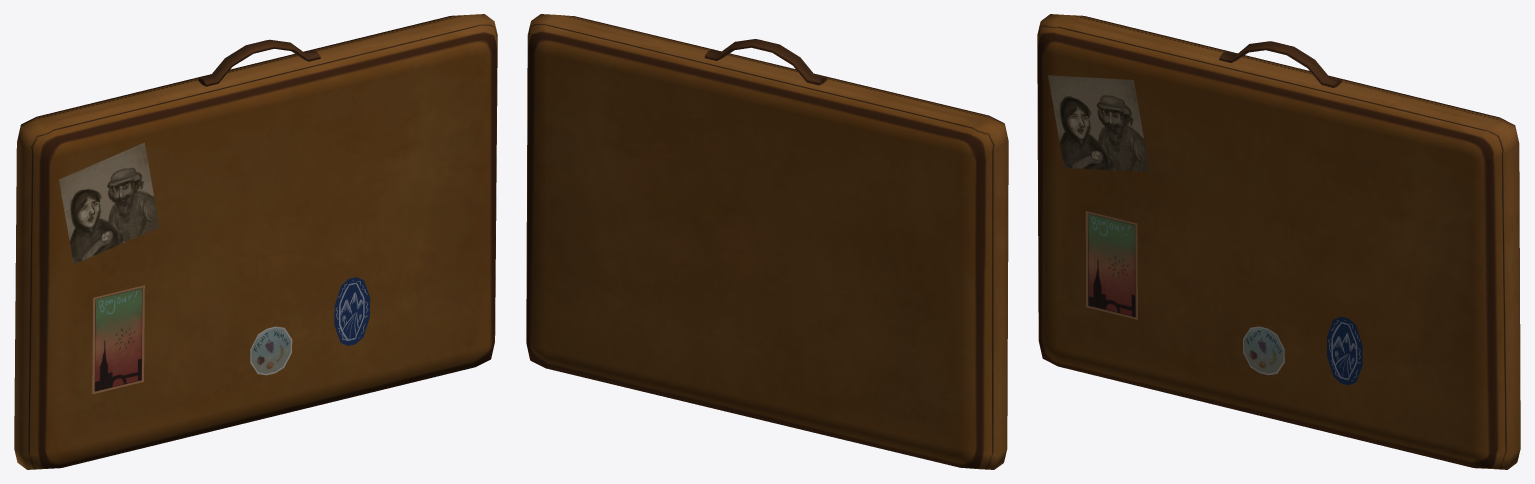
Rendered from BasicSuitcase_Scaled.fbx.
3 views of the same model, side by side, from view 1: azimuth 30°, elevation 25°; view 2: azimuth 150°, elevation 25°; view 3: azimuth 330°, elevation 25° (orthographic).
Parts seen in each view (by area): view 1: BasicSuitcase2, Sticker_square, Sticker_rectangle, Sticker_oval, Sticker_circle, SuitcaseHandle2; view 2: BasicSuitcase2, SuitcaseHandle2; view 3: BasicSuitcase2, Sticker_square, Sticker_rectangle, Sticker_oval, Sticker_circle, SuitcaseHandle2.
Part boxes in pixels (x1,y1,x2,y2): BasicSuitcase2: [14, 14, 497, 469]; Sticker_square: [59, 142, 159, 264]; Sticker_rectangle: [92, 285, 144, 394]; Sticker_oval: [334, 277, 370, 345]; Sticker_circle: [250, 326, 292, 375]; SuitcaseHandle2: [198, 39, 320, 86]; BasicSuitcase2: [526, 14, 1008, 469]; SuitcaseHandle2: [704, 39, 827, 85]; BasicSuitcase2: [1037, 14, 1520, 469]; Sticker_square: [1048, 75, 1149, 172]; Sticker_rectangle: [1085, 211, 1137, 319]; Sticker_oval: [1327, 316, 1362, 385]; Sticker_circle: [1243, 326, 1284, 374]; SuitcaseHandle2: [1219, 41, 1341, 87].
Size of the model in its own units: 71.02 by 53.4 by 8.46.
